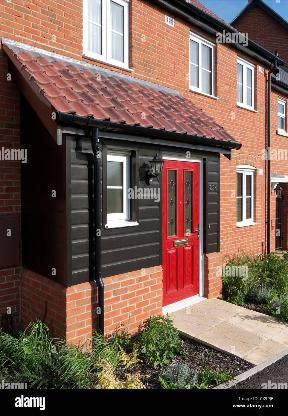door: (155, 153, 210, 315)
